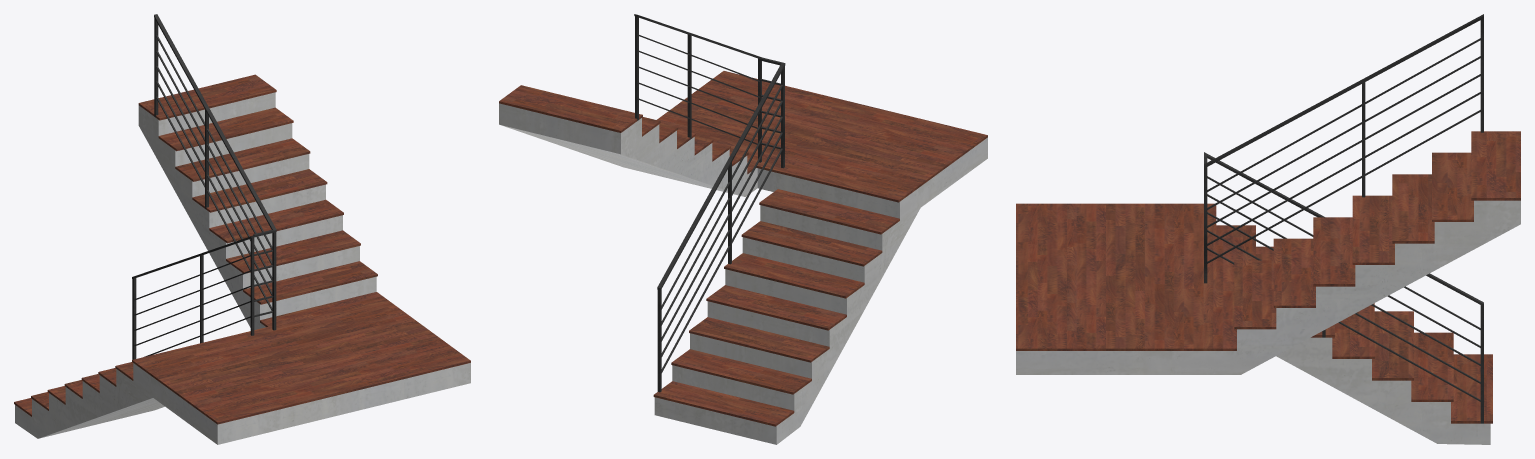
Rendered from Tangga.fbx.
3 views of the same model, side by side, from view 1: azimuth 30°, elevation 25°; view 2: azimuth 150°, elevation 25°; view 3: azimuth 270°, elevation 25° (orthographic). The views are drawn at different scales.
Parts seen in each view (by area): view 1: Stair1; view 2: Stair1; view 3: Stair1.
Part boxes in pixels (x1=…): Stair1: x1=14, y1=14, x2=470, y2=444; Stair1: x1=499, y1=14, x2=987, y2=444; Stair1: x1=1016, y1=14, x2=1520, y2=444.
Size of the model in its own units: 260 by 370 by 383.
3 materials, 3 textured.
